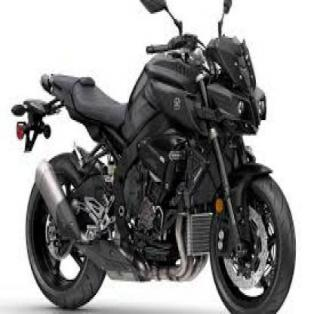Motocicleta: (11, 0, 300, 312)
